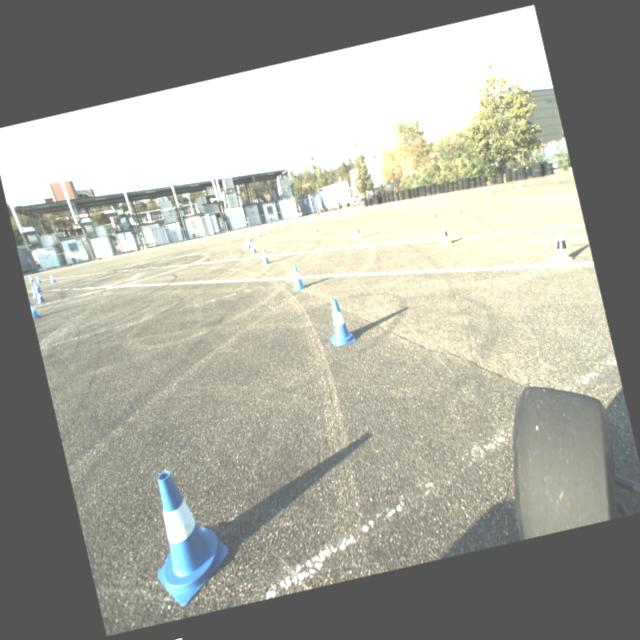blue_cone: (134, 461, 238, 610), (322, 295, 356, 347), (287, 262, 307, 291), (29, 298, 41, 318), (258, 247, 270, 265), (34, 286, 46, 302), (248, 240, 258, 253), (30, 285, 38, 298), (244, 238, 252, 249), (34, 282, 41, 292), (35, 274, 41, 284), (50, 273, 56, 282), (33, 279, 39, 288), (246, 234, 251, 242), (28, 274, 33, 282), (256, 230, 261, 237), (517, 180, 522, 187), (454, 190, 459, 196), (266, 226, 270, 233), (420, 196, 424, 202), (282, 222, 286, 228), (393, 200, 397, 205), (296, 219, 300, 224), (320, 213, 324, 218), (351, 207, 355, 212), (373, 204, 376, 209)
yellow_cone: (542, 227, 576, 267), (436, 223, 452, 246), (352, 225, 362, 240), (312, 225, 320, 238), (299, 224, 305, 233), (485, 187, 491, 195), (423, 196, 428, 203), (306, 218, 310, 226), (300, 222, 304, 230), (402, 200, 406, 207), (340, 210, 344, 217), (318, 216, 322, 222), (370, 205, 374, 211)
